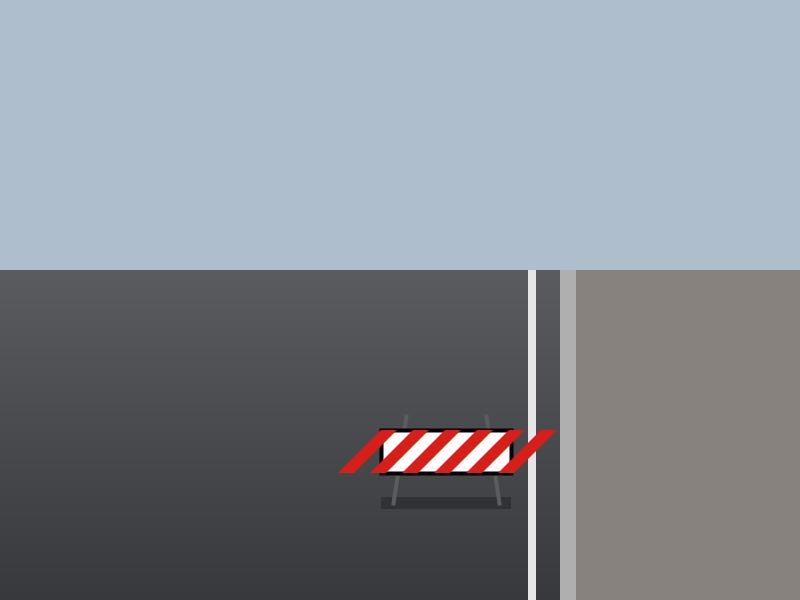ROAD_OBSTACLE: (381, 406, 511, 503)
